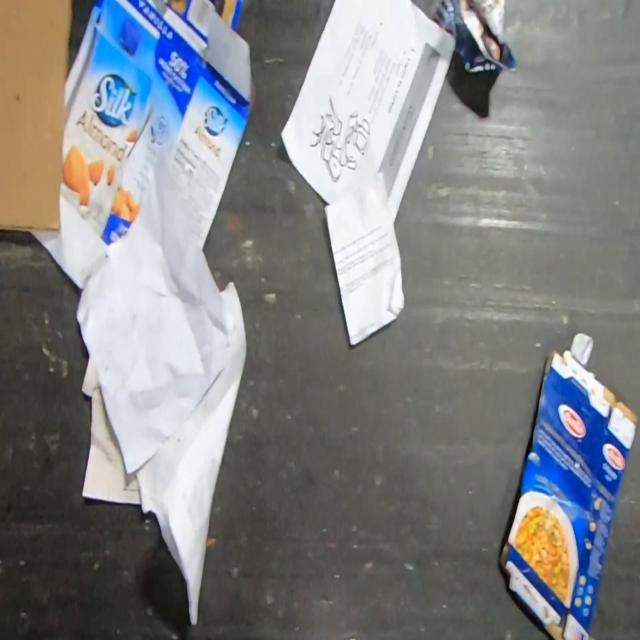cardboard: (28, 0, 258, 289), (498, 330, 639, 640)
